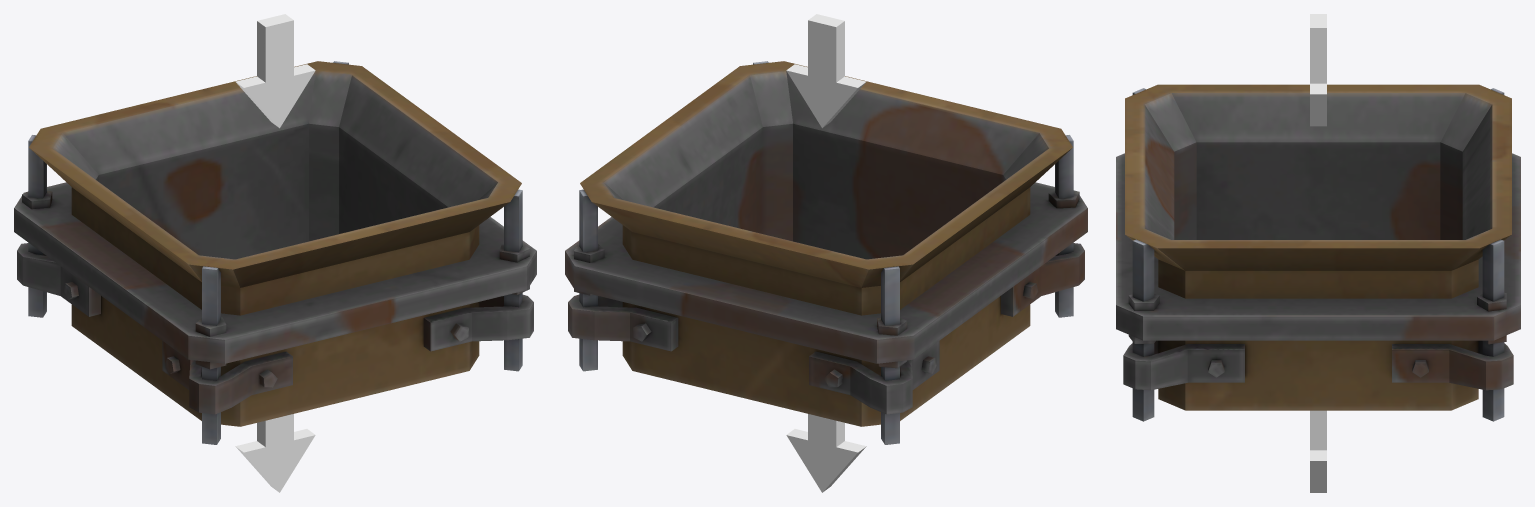
File: Chute_Hopper.glb
3 renders of one model, left to right at view 1: azimuth 30°, elevation 25°; view 2: azimuth 150°, elevation 25°; view 3: azimuth 270°, elevation 25°, orthographic.
Visible parts, largest first — view 1: Chute_Hopper, ghostarrow, ghostarrow (1); view 2: Chute_Hopper, ghostarrow, ghostarrow (1); view 3: Chute_Hopper, ghostarrow, ghostarrow (1).
Part boxes in pixels (left/top/right/bottom): Chute_Hopper: left=14, top=61, right=536, bottom=444; ghostarrow: left=235, top=14, right=315, bottom=128; ghostarrow (1): left=235, top=414, right=315, bottom=492; Chute_Hopper: left=565, top=61, right=1087, bottom=444; ghostarrow: left=786, top=14, right=866, bottom=128; ghostarrow (1): left=786, top=414, right=866, bottom=492; Chute_Hopper: left=1116, top=84, right=1520, bottom=421; ghostarrow: left=1310, top=14, right=1326, bottom=126; ghostarrow (1): left=1310, top=410, right=1326, bottom=492.
Size of the model in its own units: 1 by 1.29 by 1.
Materials: 2 (1 with a texture image).
